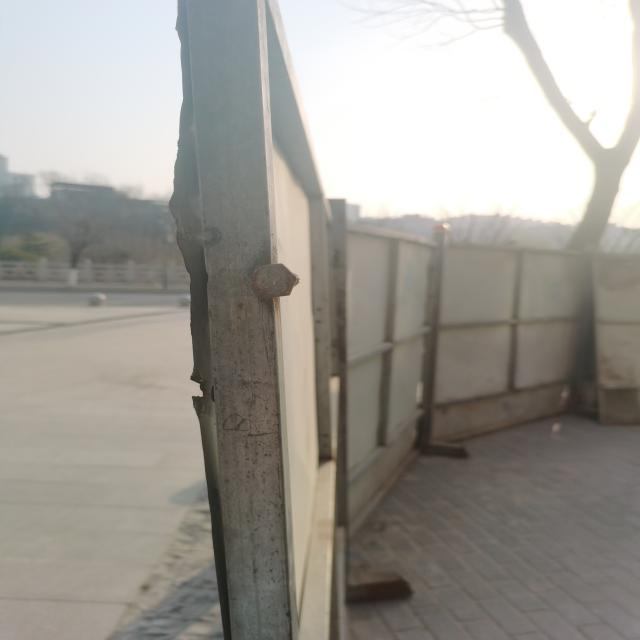bolt head: (246, 261, 298, 300)
